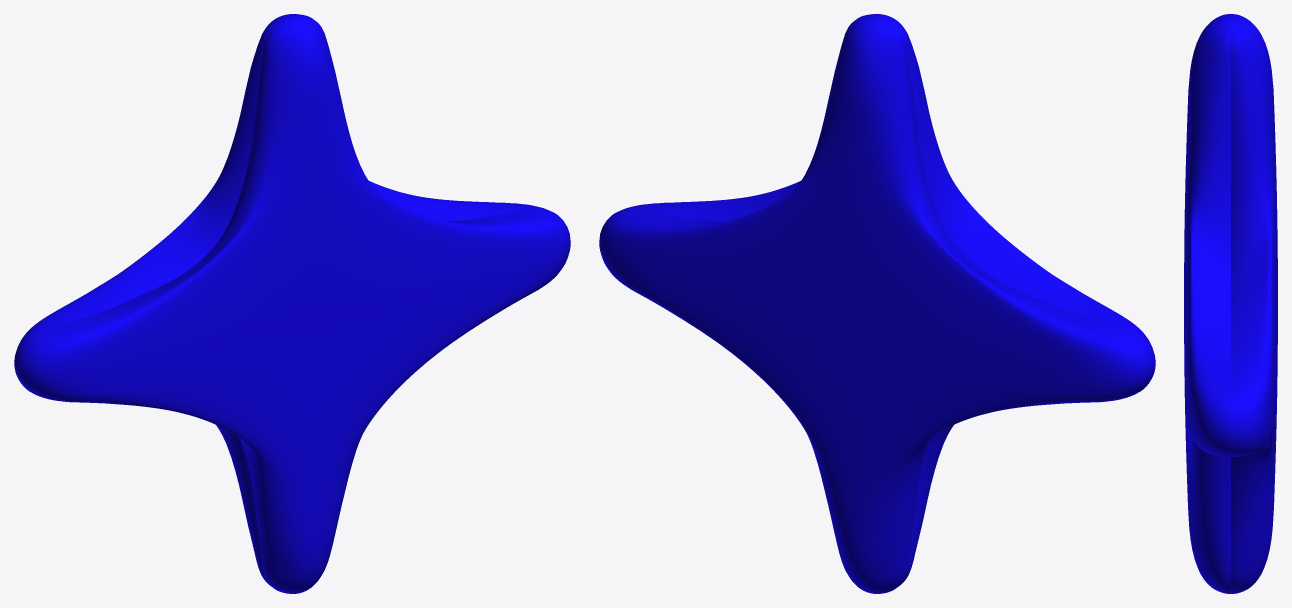
Rendered from north-star.glb.
3 renders of one model, left to right at view 1: azimuth 30°, elevation 25°; view 2: azimuth 150°, elevation 25°; view 3: azimuth 270°, elevation 25°, orthographic.
Visible parts, largest first — view 1: Calque 1(2A0B6CB5-9C7A-4F58-89C6-30E3DBB8B3F1); view 2: Calque 1(2A0B6CB5-9C7A-4F58-89C6-30E3DBB8B3F1); view 3: Calque 1(2A0B6CB5-9C7A-4F58-89C6-30E3DBB8B3F1).
Part boxes in pixels (x1=…): Calque 1(2A0B6CB5-9C7A-4F58-89C6-30E3DBB8B3F1): x1=14, y1=14, x2=570, y2=593; Calque 1(2A0B6CB5-9C7A-4F58-89C6-30E3DBB8B3F1): x1=599, y1=14, x2=1155, y2=593; Calque 1(2A0B6CB5-9C7A-4F58-89C6-30E3DBB8B3F1): x1=1184, y1=14, x2=1277, y2=593.
Bounding box in the file's own units: 0.0598 × 0.0598 × 0.00888.
